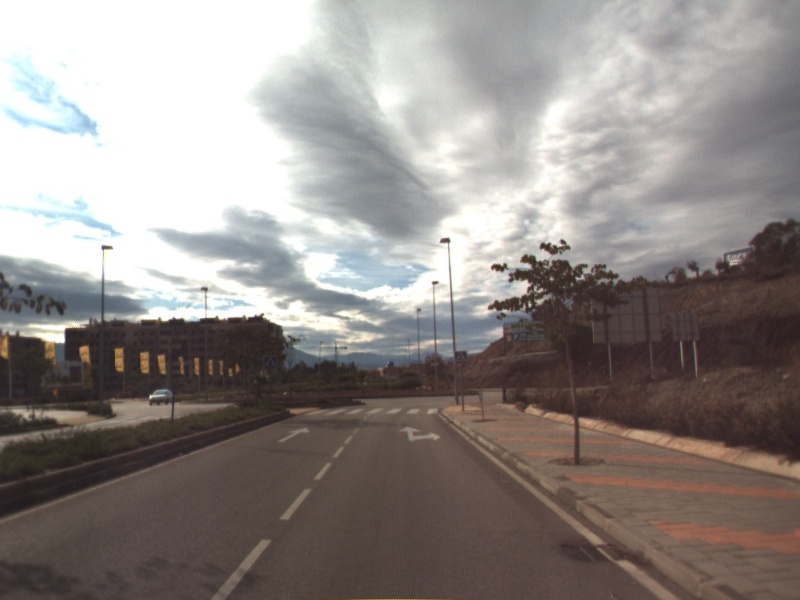STRAIGHT: (276, 425, 312, 444)
STRAIGHT_RIGHT: (398, 424, 442, 443)
